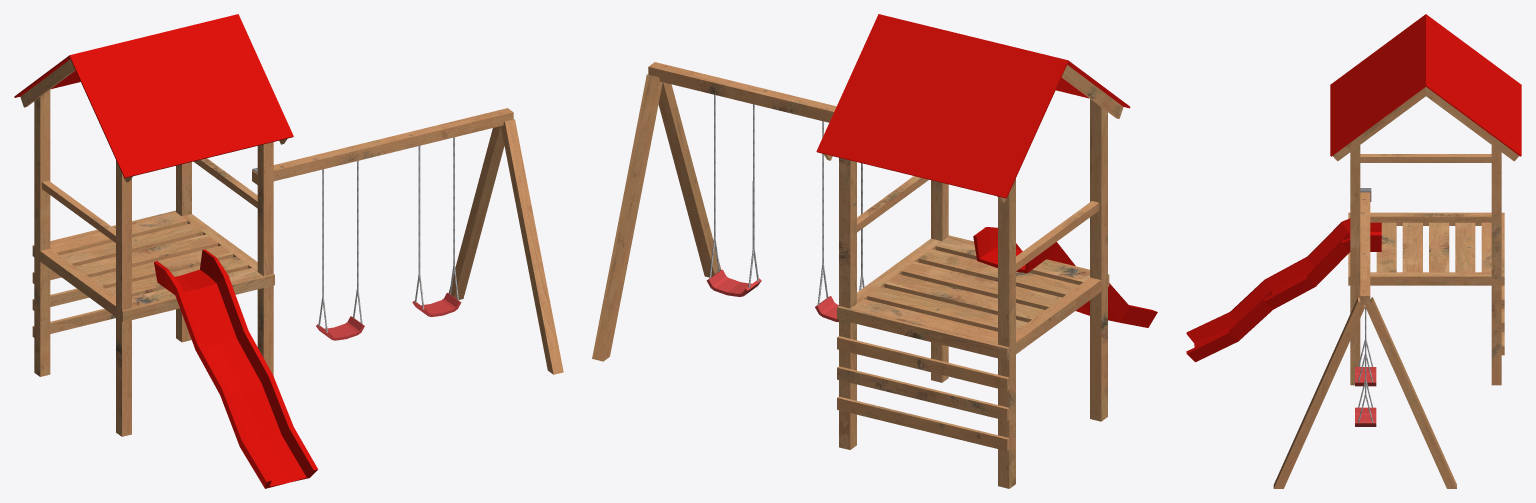
The model's file is play-small.glb.
3 views of the same model, side by side, from view 1: azimuth 30°, elevation 25°; view 2: azimuth 150°, elevation 25°; view 3: azimuth 270°, elevation 25° (orthographic). The views are drawn at different scales.
Parts seen in each view (by area): view 1: Object_4, Object_12, Object_10, Object_8, Object_6; view 2: Object_4, Object_12, Object_10, Object_8, Object_6; view 3: Object_4, Object_12, Object_10, Object_6, Object_8.
Boxes of the visible parts, x1,y1,x2,y2 form: Object_4: (20,59,563,436); Object_12: (14,14,293,178); Object_10: (154,249,317,488); Object_8: (318,137,458,332); Object_6: (316,292,461,340); Object_4: (592,62,1123,488); Object_12: (816,14,1130,198); Object_10: (973,227,1157,327); Object_8: (709,94,864,304); Object_6: (706,269,838,322); Object_4: (1273,87,1518,488); Object_12: (1330,14,1521,156); Object_10: (1186,218,1381,362); Object_6: (1355,367,1376,426); Object_8: (1358,305,1373,422).
Bounding box in the file's own units: 4.02 × 3.33 × 3.33.
Materials: 6 (6 with a texture image).
